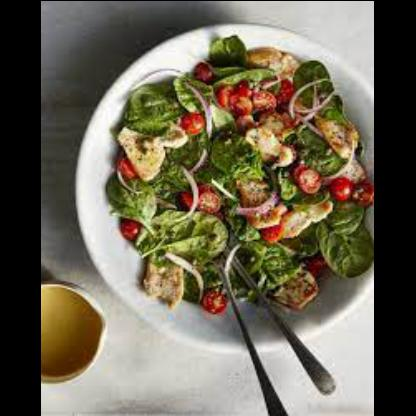salad: (108, 34, 375, 314)
